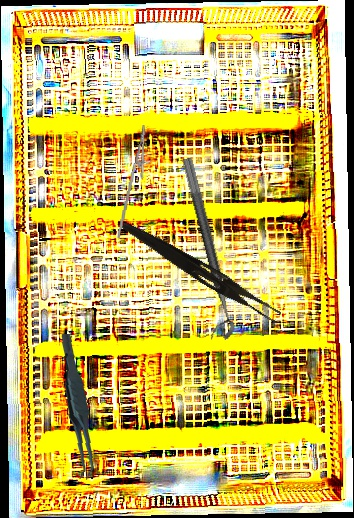Dressing Forceps: (116, 218, 286, 325)
Fixation Ring: (167, 157, 238, 343)
Needle Holder: (116, 123, 155, 241)
Tissue Forceps: (51, 333, 103, 481)
